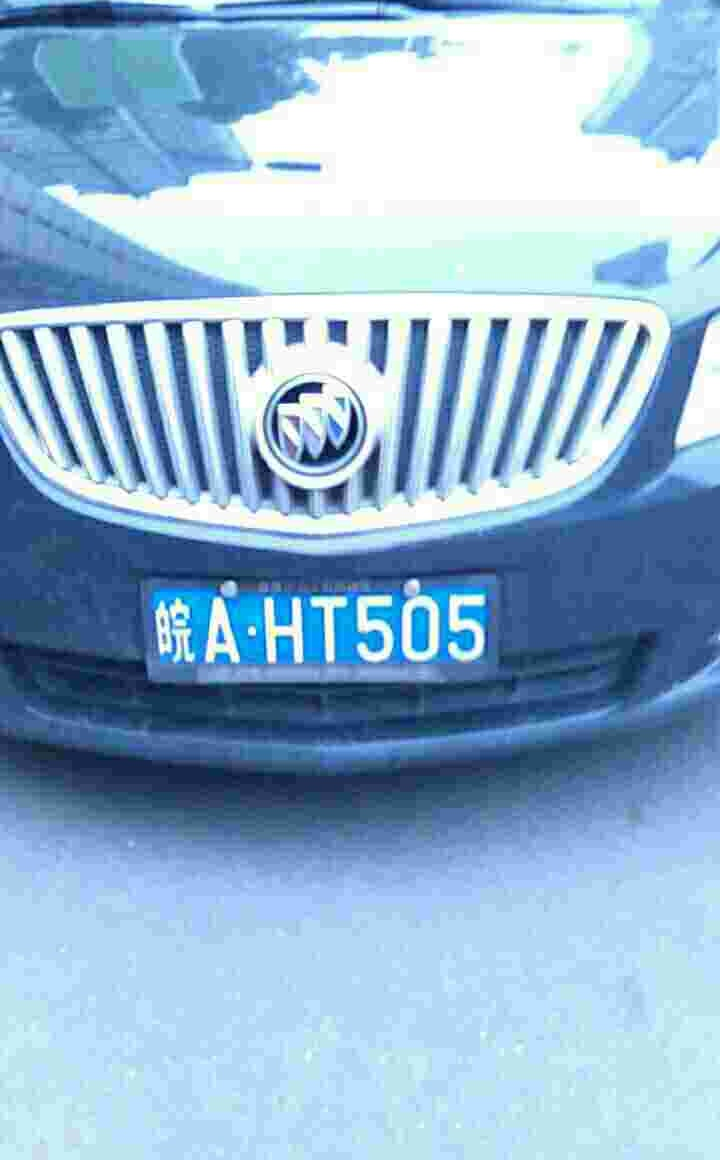license_plate: (151, 575, 497, 680)
